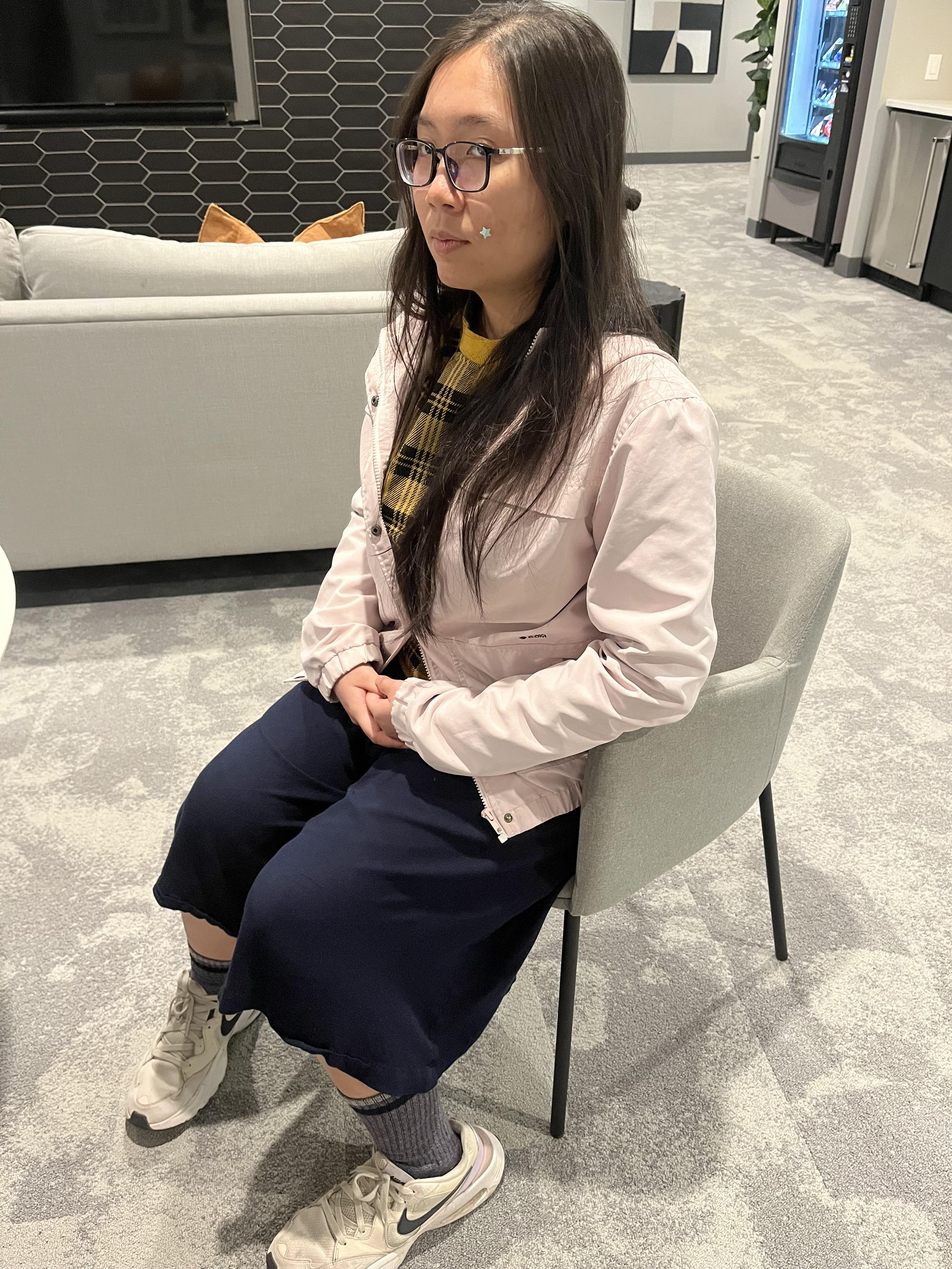GoodPosture: (127, 0, 724, 1266)
